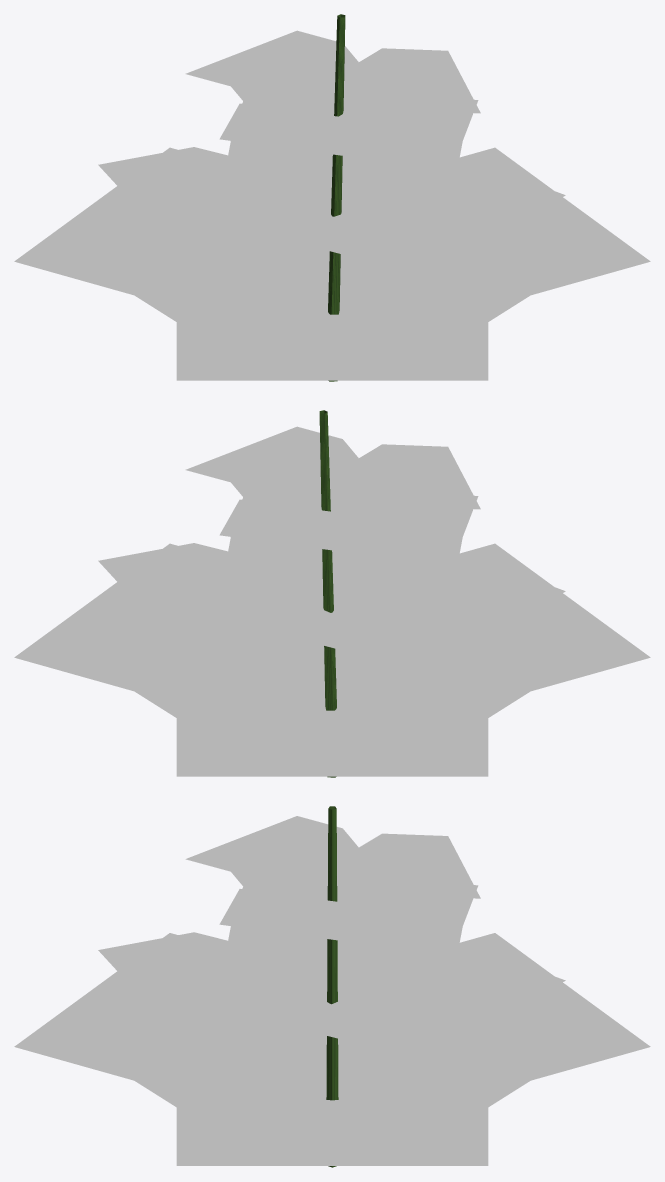
File: tall_1_lod.obj
3 views of the same model, one above another, from view 1: azimuth 30°, elevation 25°; view 2: azimuth 150°, elevation 25°; view 3: azimuth 270°, elevation 25° (orthographic).
Visible parts, largest first — view 1: plant; view 2: plant; view 3: plant.
Part boxes in pixels (x1,y1,x2,y2): plant: (14, 14, 650, 381); plant: (14, 410, 650, 777); plant: (14, 806, 650, 1167).
Bounding box in the file's own units: 0.816 × 0.5898 × 0.9423.
